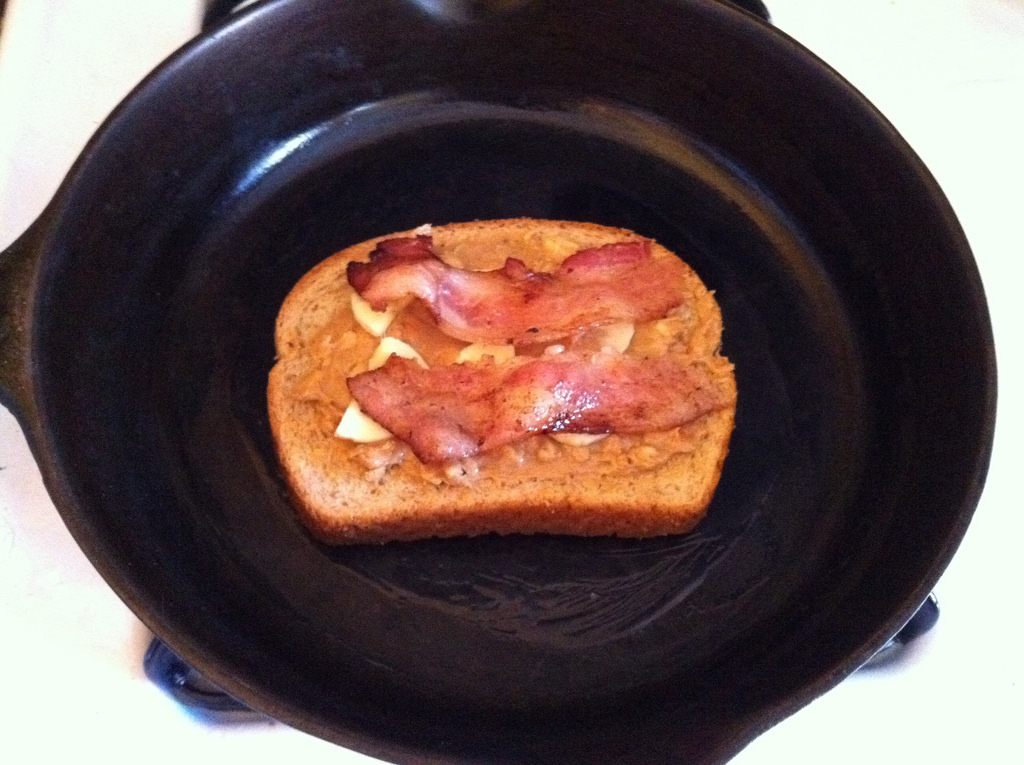slice of bread: (255, 204, 758, 562)
